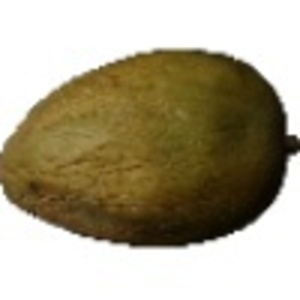mamão: (8, 37, 291, 254)
